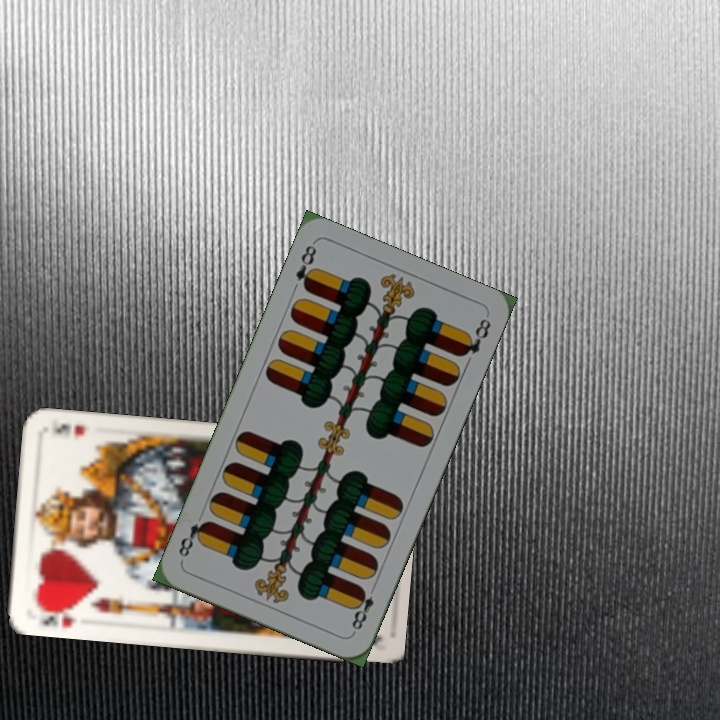E8: (347, 584, 377, 636), (291, 241, 319, 294)
HK: (33, 600, 80, 630)
